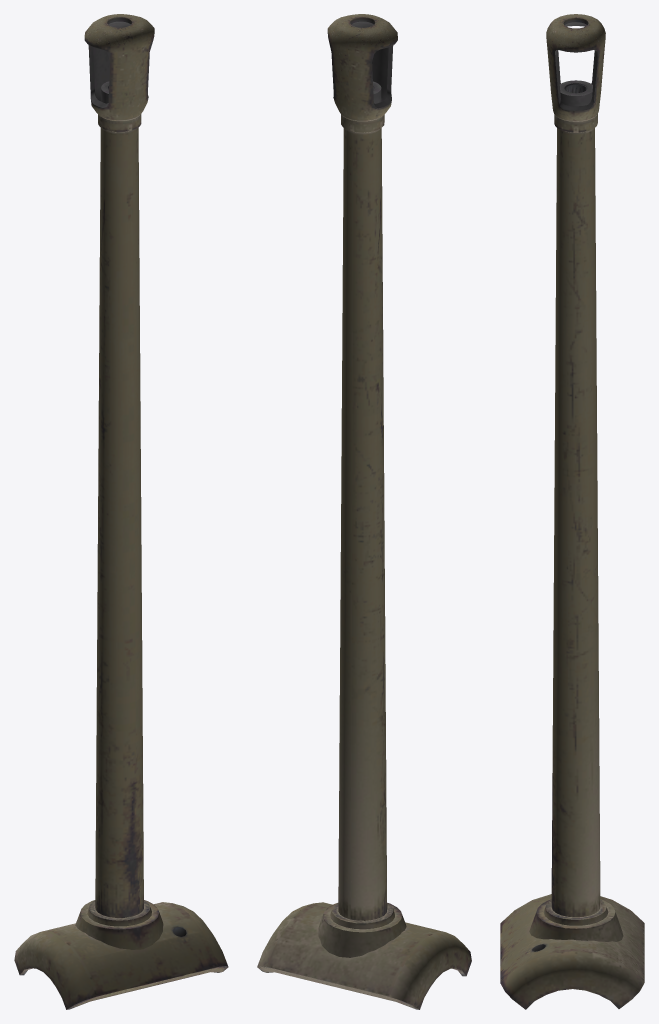
The model's file is Gun_03.glb.
3 views of the same model, side by side, from view 1: azimuth 30°, elevation 25°; view 2: azimuth 150°, elevation 25°; view 3: azimuth 270°, elevation 25° (orthographic).
Parts seen in each view (by area): view 1: set_0_group_0; view 2: set_0_group_0; view 3: set_0_group_0.
Part boxes in pixels (box(x1,y1,x2,y2)): set_0_group_0: box(14, 14, 228, 1009); set_0_group_0: box(257, 14, 471, 1009); set_0_group_0: box(500, 14, 644, 1009).
Size of the model in its own units: 1.02 by 5.92 by 0.8166.
Materials: 1 (1 with a texture image).
